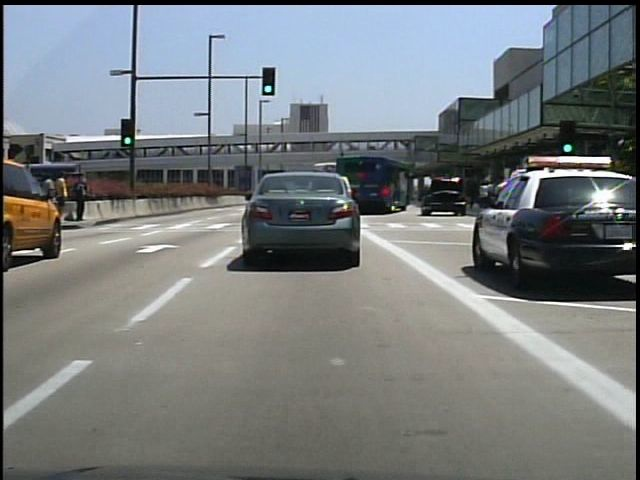person: (73, 172, 92, 224), (42, 172, 59, 225), (57, 169, 72, 216)
